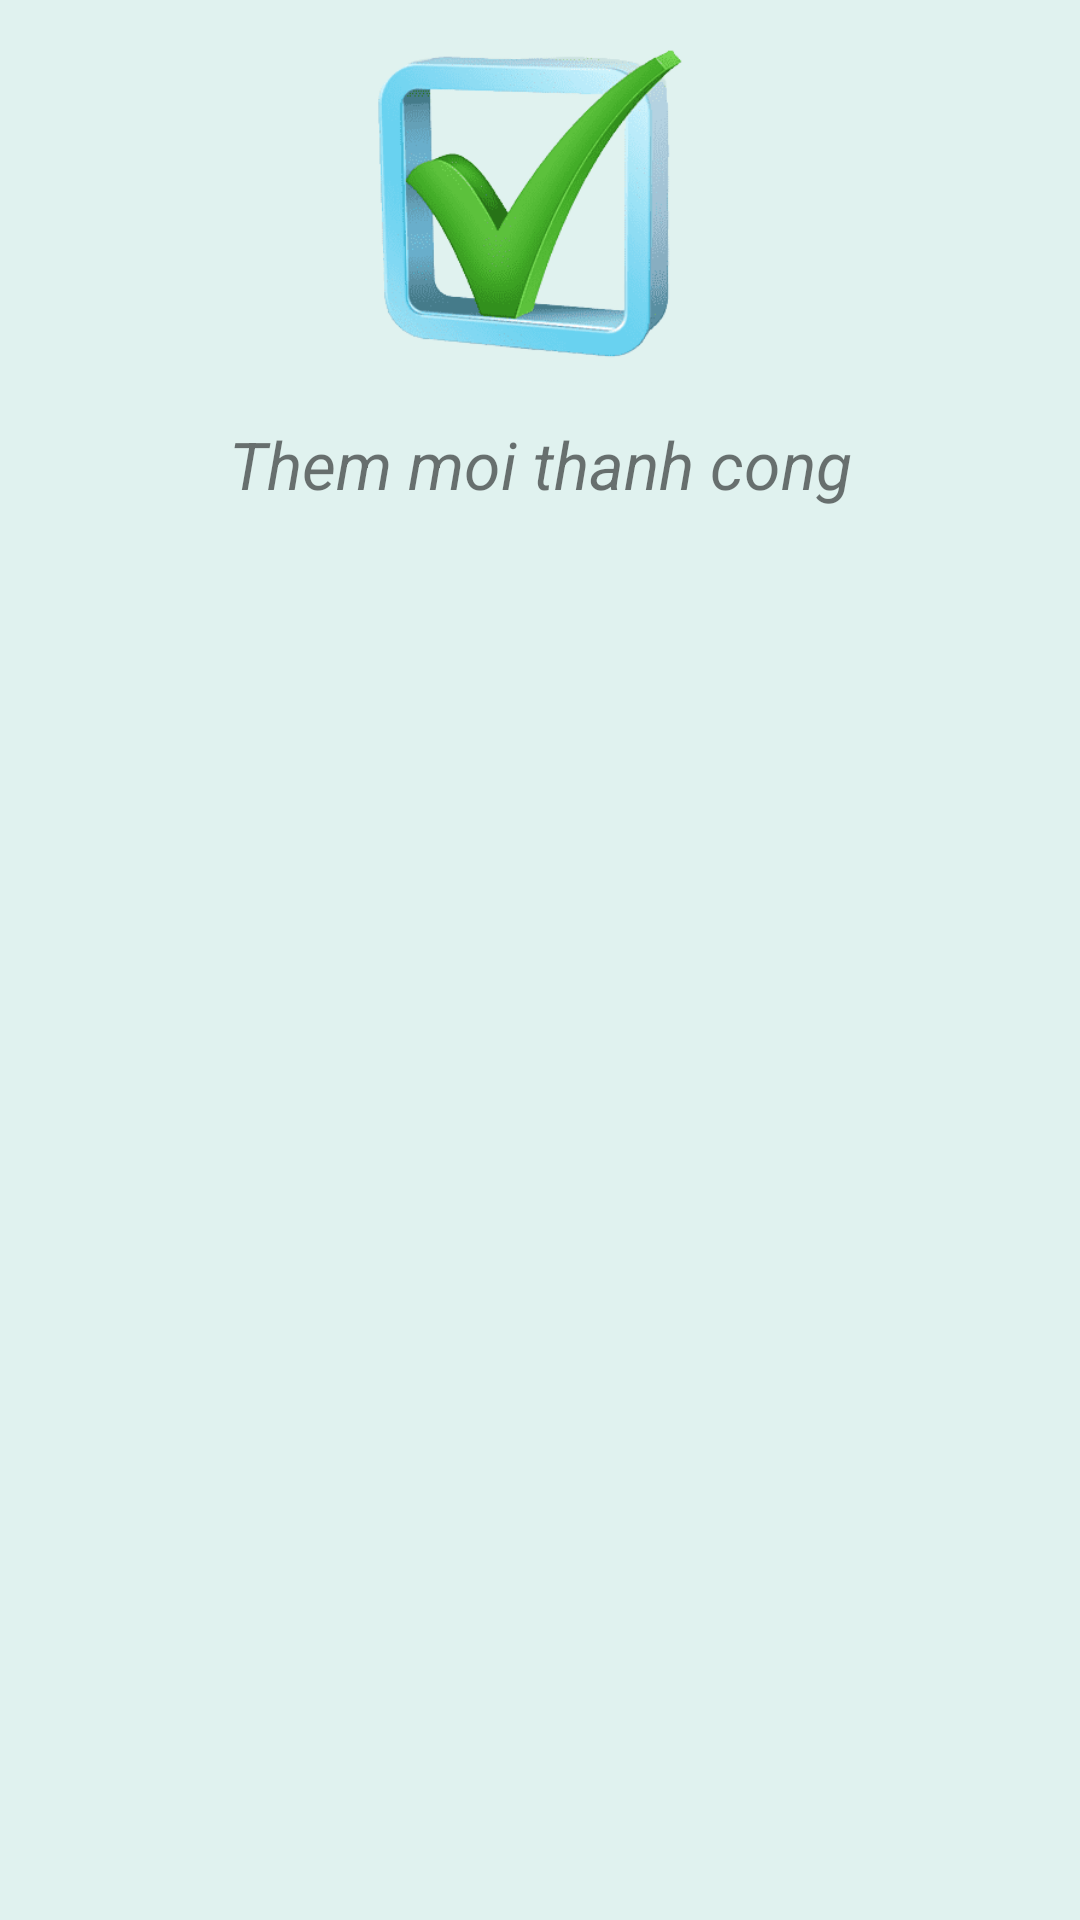

Named icons in this screenshot (1080×1920) and their centers, (x=x, y=y):
success: (x=530, y=203)
